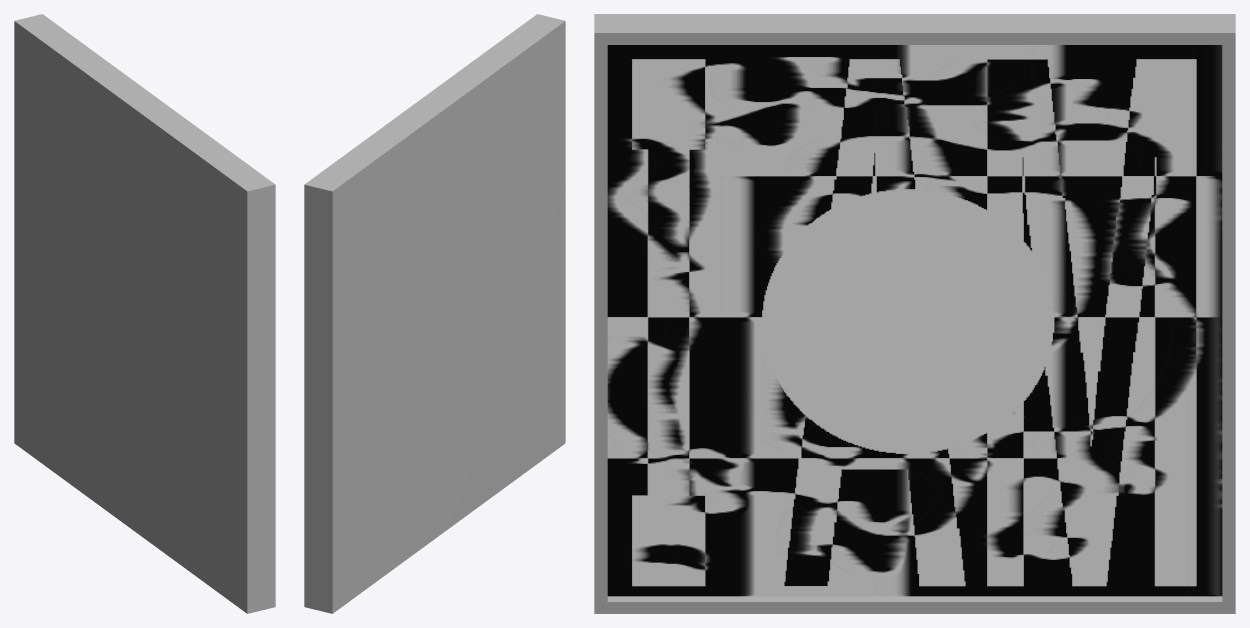
File: IAM.fbx
3 renders of one model, left to right at view 1: azimuth 30°, elevation 25°; view 2: azimuth 150°, elevation 25°; view 3: azimuth 270°, elevation 25°, orthographic. The views are drawn at different scales.
Visible parts, largest first — view 1: Cube; view 2: Cube; view 3: Cube.
Part boxes in pixels (left/top/right/bottom): Cube: left=14, top=14, right=275, bottom=613; Cube: left=304, top=14, right=565, bottom=613; Cube: left=594, top=14, right=1235, bottom=613.
Bounding box in the file's own units: 68.2 × 977 × 977.
